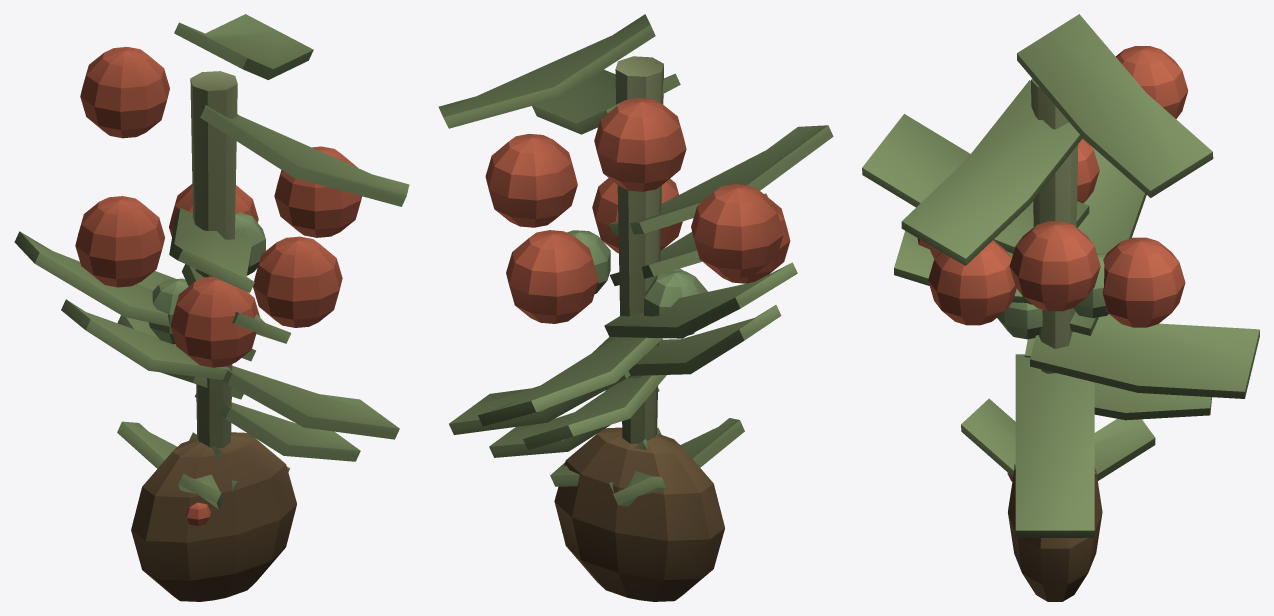
File: crop_tomato.glb
The picture shows the model from 3 angles, left to right: view 1: azimuth 30°, elevation 25°; view 2: azimuth 150°, elevation 25°; view 3: azimuth 270°, elevation 25°; orthographic projection. The views are drawn at different scales.
Parts seen in each view (by area): view 1: seed_mound, stalk, fruit.003, fruit.002, fruit.005, leaf.004, fruit.004, leaf, leaf.005, fruit, leaf2.002, leaf2 (+9 smaller); view 2: seed_mound, stalk, fruit.002, fruit, fruit.001, fruit.003, leaf.005, leaf.003, leaf.001, leaf.002, leaf2.002, leaf2.001 (+11 smaller); view 3: leaf.005, leaf.004, leaf, leaf.001, leaf.003, fruit, fruit.001, fruit.005, seed_mound, stalk, leaf.002, leaf2.001 (+7 smaller).
Boxes of the visible parts, x1=… form: seed_mound: x1=131, y1=432, x2=296, y2=601; stalk: x1=190, y1=71, x2=237, y2=448; fruit.003: x1=75, y1=196, x2=164, y2=287; fruit.002: x1=80, y1=47, x2=169, y2=138; fruit.005: x1=253, y1=236, x2=342, y2=327; leaf.004: x1=200, y1=105, x2=409, y2=206; fruit.004: x1=170, y1=276, x2=259, y2=367; leaf: x1=221, y1=366, x2=399, y2=439; leaf.005: x1=174, y1=14, x2=313, y2=79; fruit: x1=274, y1=146, x2=361, y2=237; leaf2.002: x1=61, y1=299, x2=230, y2=379; leaf2: x1=195, y1=394, x2=360, y2=461; seed_mound: x1=554, y1=427, x2=724, y2=601; stalk: x1=615, y1=56, x2=663, y2=443; fruit.002: x1=594, y1=98, x2=686, y2=191; fruit: x1=485, y1=133, x2=577, y2=227; fruit.001: x1=506, y1=230, x2=598, y2=323; fruit.003: x1=691, y1=184, x2=783, y2=277; leaf.005: x1=438, y1=14, x2=655, y2=128; leaf.003: x1=608, y1=125, x2=833, y2=235; leaf.001: x1=478, y1=337, x2=662, y2=426; leaf.002: x1=604, y1=262, x2=797, y2=338; leaf2.002: x1=628, y1=305, x2=781, y2=375; leaf2.001: x1=523, y1=375, x2=666, y2=450; leaf.005: x1=1017, y1=14, x2=1213, y2=197; leaf.004: x1=901, y1=80, x2=1082, y2=265; leaf: x1=1015, y1=354, x2=1094, y2=537; leaf.001: x1=1030, y1=314, x2=1259, y2=398; leaf.003: x1=862, y1=114, x2=1089, y2=253; fruit: x1=1009, y1=221, x2=1100, y2=311; fruit.001: x1=1102, y1=237, x2=1185, y2=327; fruit.005: x1=928, y1=240, x2=1016, y2=325; seed_mound: x1=1008, y1=467, x2=1102, y2=601; stalk: x1=1031, y1=78, x2=1078, y2=373; leaf.002: x1=1069, y1=145, x2=1146, y2=335; leaf2.001: x1=1094, y1=382, x2=1211, y2=420.
Size of the model in its own units: 0.6268 by 1.03 by 0.6547.
